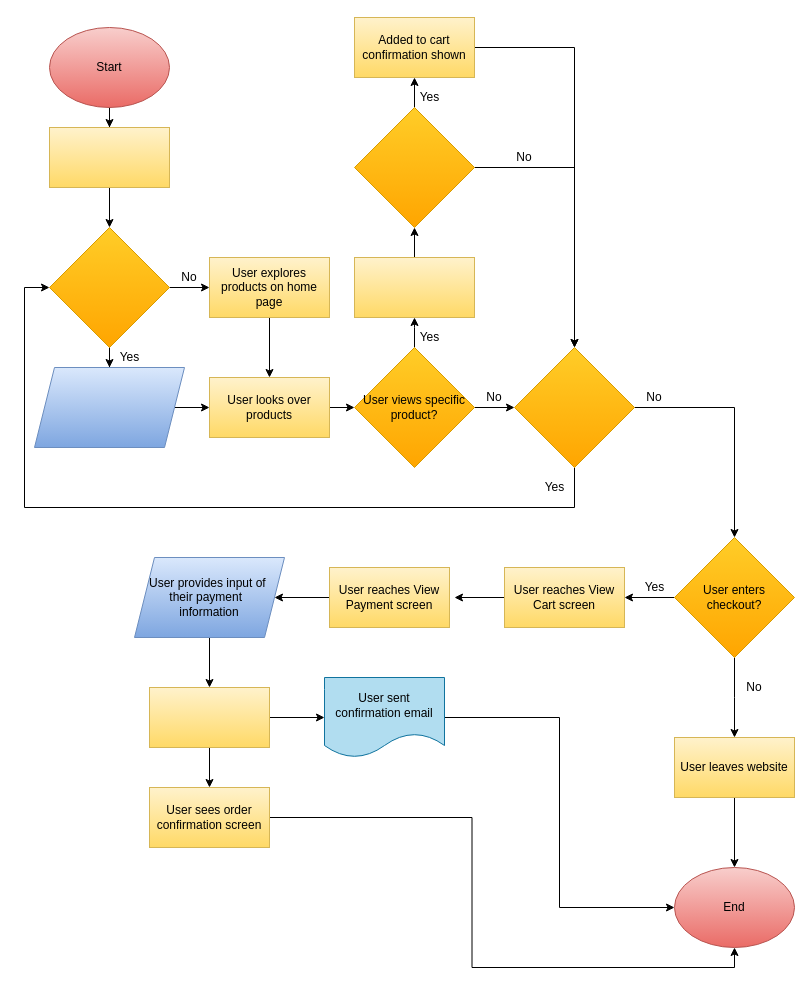
Some shapes in this 812 by 993 pixel diagram are drawn without their labels. Here are the shapes that lost their labels. From the top down, the box of each, then its label:
(48, 126, 170, 188): User enters website
(354, 106, 474, 228): User adds product to cart?
(48, 226, 170, 348): User searches for product?
(354, 256, 474, 318): Product's webpage opens
(34, 366, 184, 448): User provides input to website for search
(514, 346, 634, 468): User continues shopping?
(148, 686, 270, 748): User pays for their order
